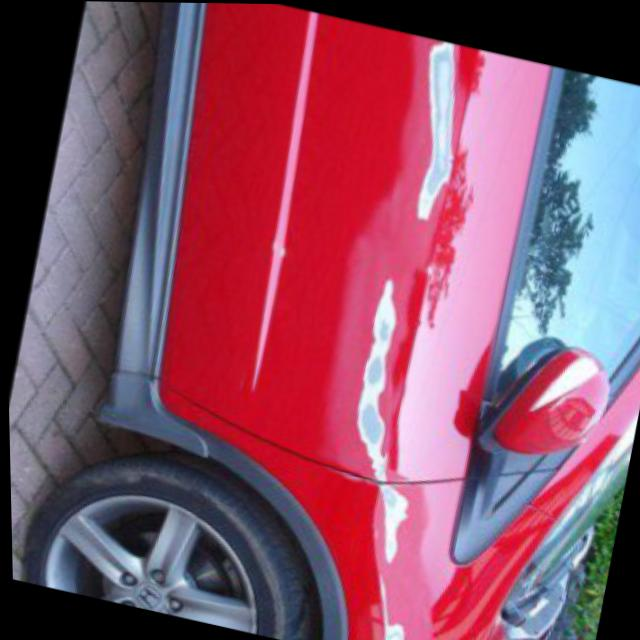Scratch: (352, 275, 408, 548), (415, 33, 464, 247), (378, 607, 412, 640)
